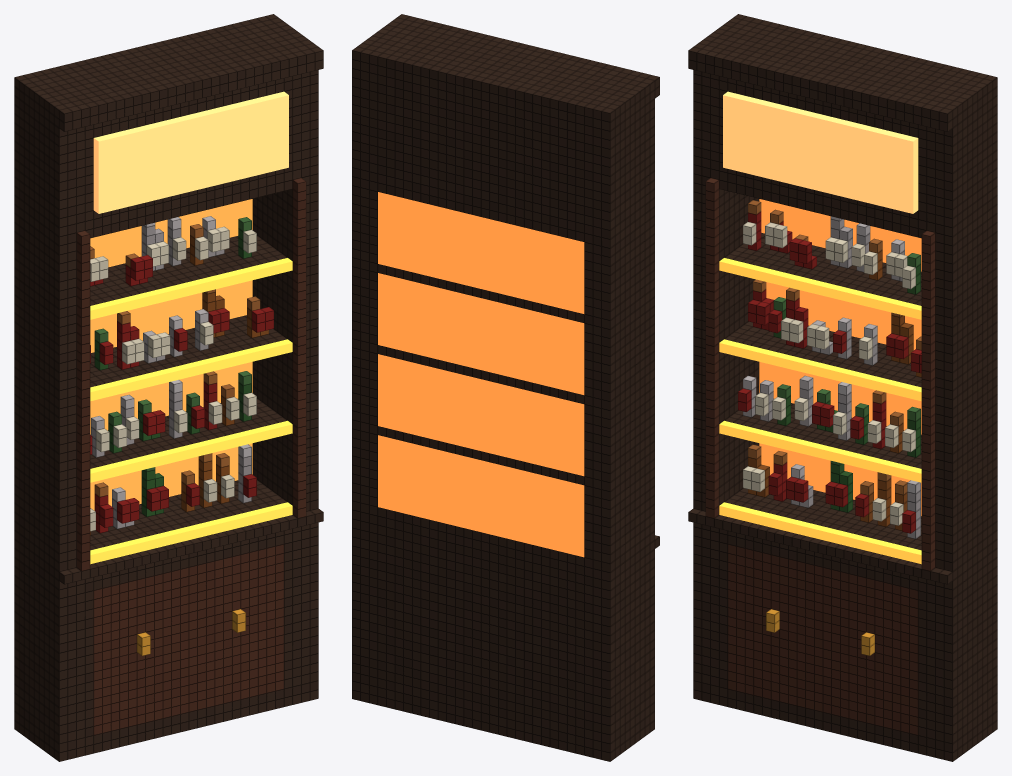
File: back_bar_shelf.glb
The picture shows the model from 3 angles, left to right: view 1: azimuth 30°, elevation 25°; view 2: azimuth 150°, elevation 25°; view 3: azimuth 330°, elevation 25°; orthographic projection.
Parts seen in each view (by area): view 1: back_bar_shelf; view 2: back_bar_shelf; view 3: back_bar_shelf.
Part boxes in pixels (x1,y1,x2,y2): back_bar_shelf: [14, 14, 323, 761]; back_bar_shelf: [352, 14, 659, 761]; back_bar_shelf: [688, 14, 997, 761].
Size of the model in its own units: 1.5 by 3.6 by 0.5.
Materials: 14 (11 with a texture image).
